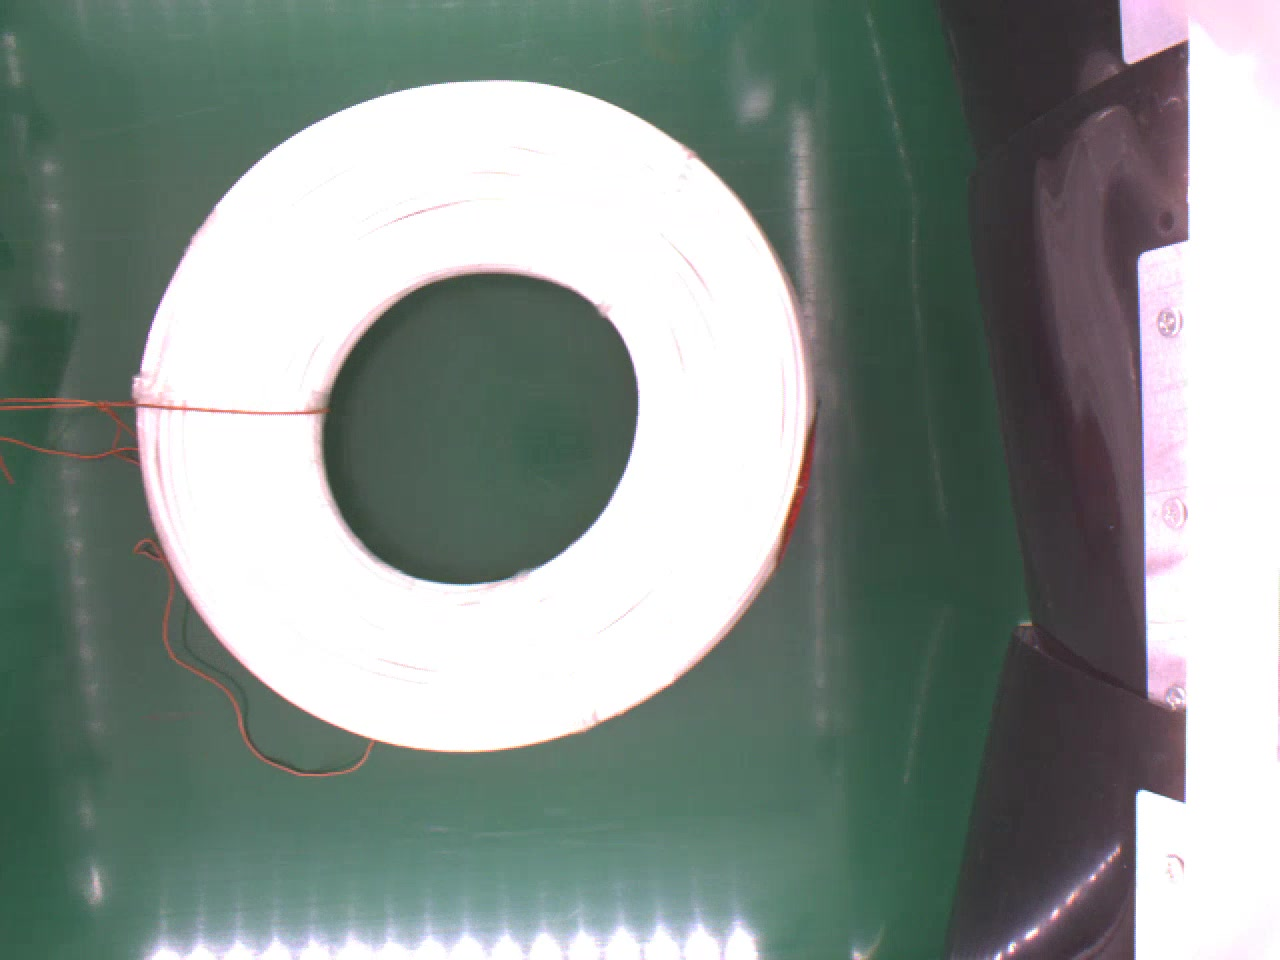white: (133, 75, 809, 758)
